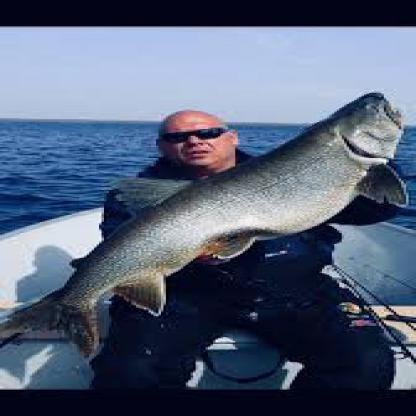fish: (0, 86, 404, 352)
